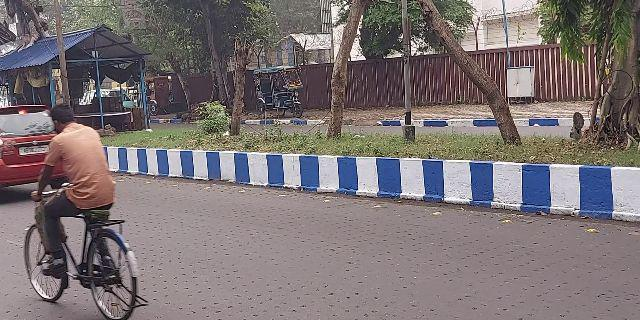Car: (3, 98, 45, 179)
Cycle: (20, 103, 151, 318)
Rickshaw: (250, 61, 309, 121)
